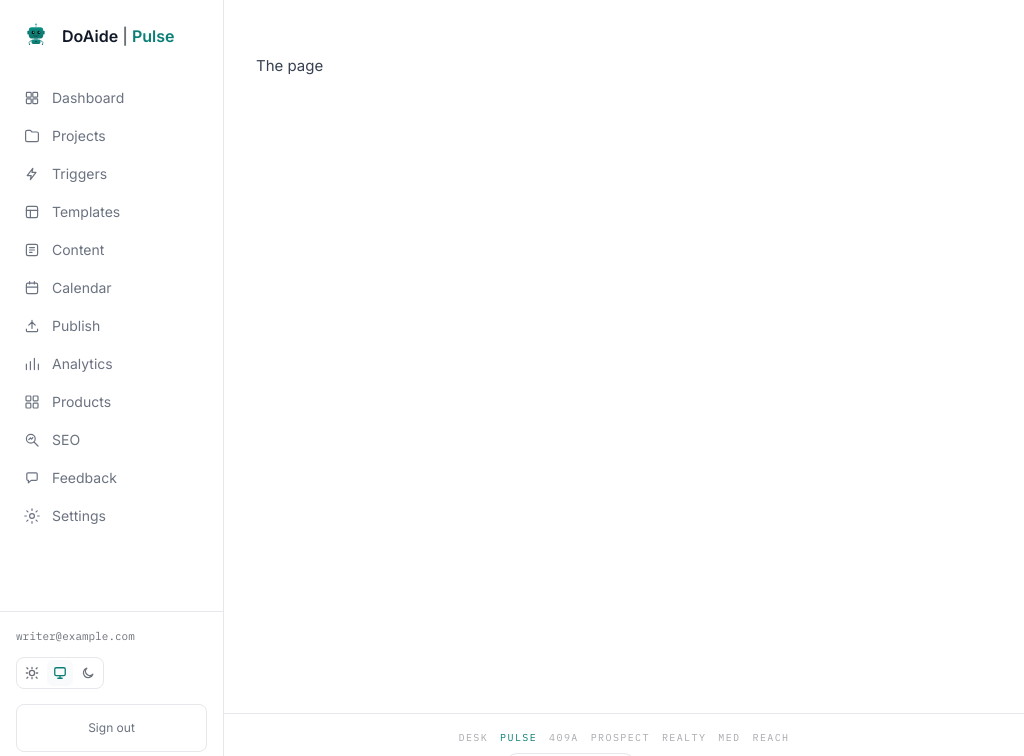
Test: the badges › re-counts on navigation, so approving a draft updates the tab on the way out
Click the link "Projects" at (65, 136), box [24,127,106,144]
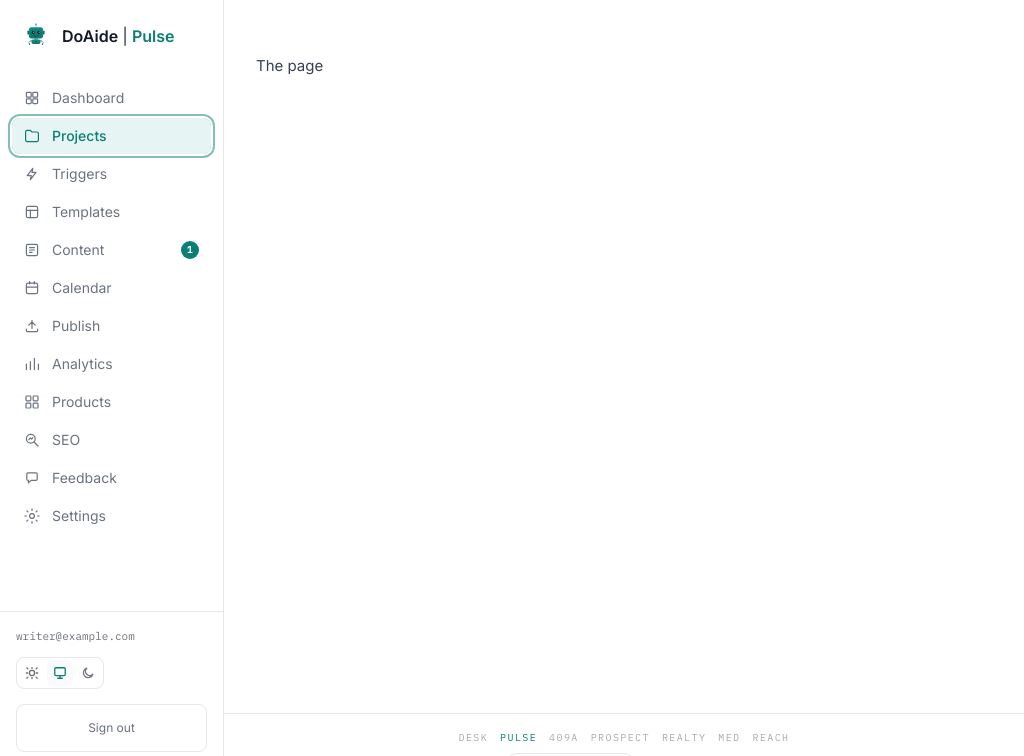
Now the text named "1 awaiting review" is shown, box [181,241,199,259]
